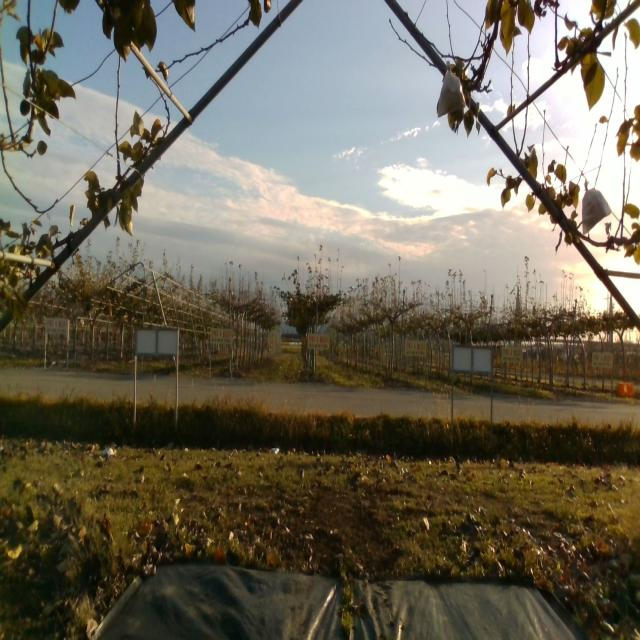pearbags: (582, 177, 612, 236), (436, 60, 466, 118)
